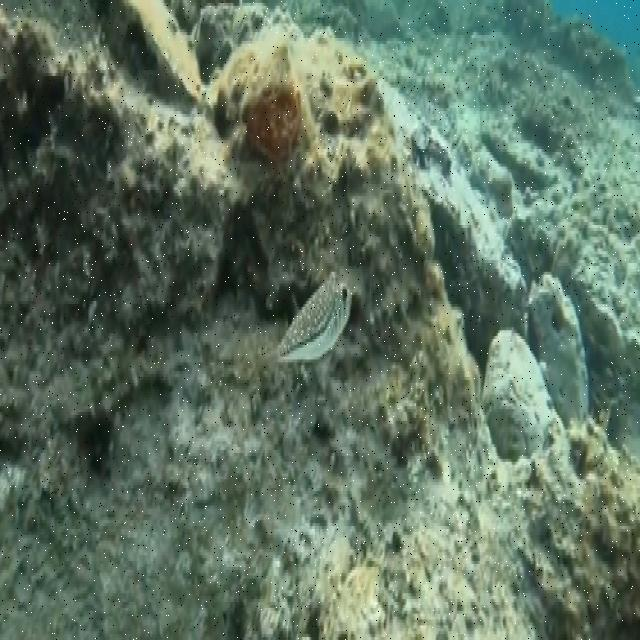Balik: (277, 272, 351, 362)
